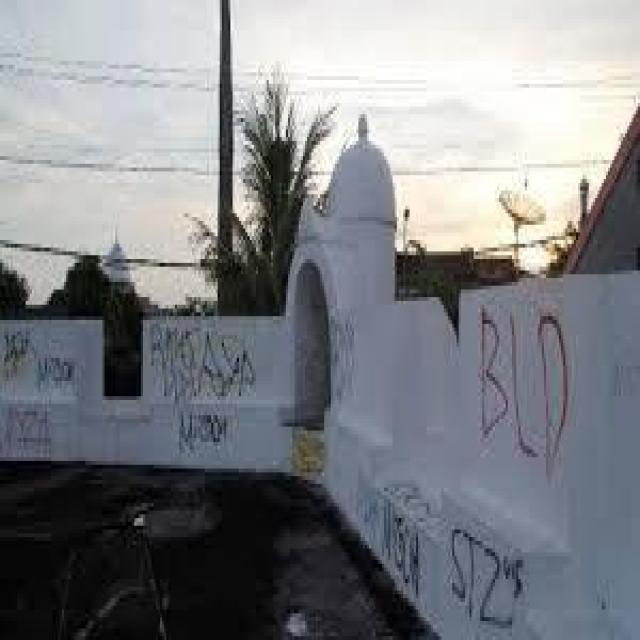nonspitting: (480, 305, 569, 471), (149, 324, 257, 454), (451, 522, 524, 632), (384, 498, 421, 592), (4, 408, 52, 458), (38, 350, 72, 394), (2, 324, 29, 366)
